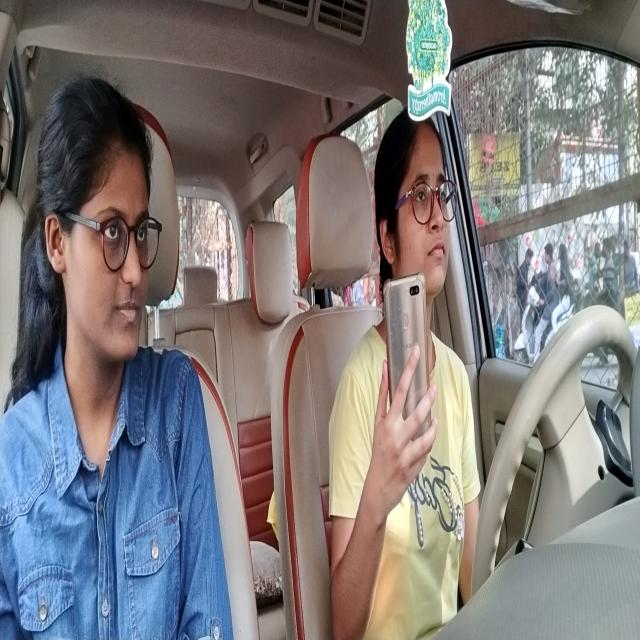mobile: (386, 276, 432, 408)
person: (51, 98, 152, 359), (378, 115, 453, 293)
